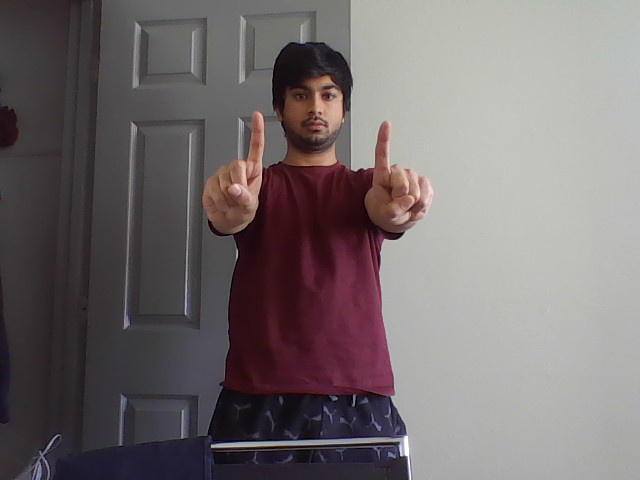one: (194, 105, 276, 233), (363, 116, 439, 238)
